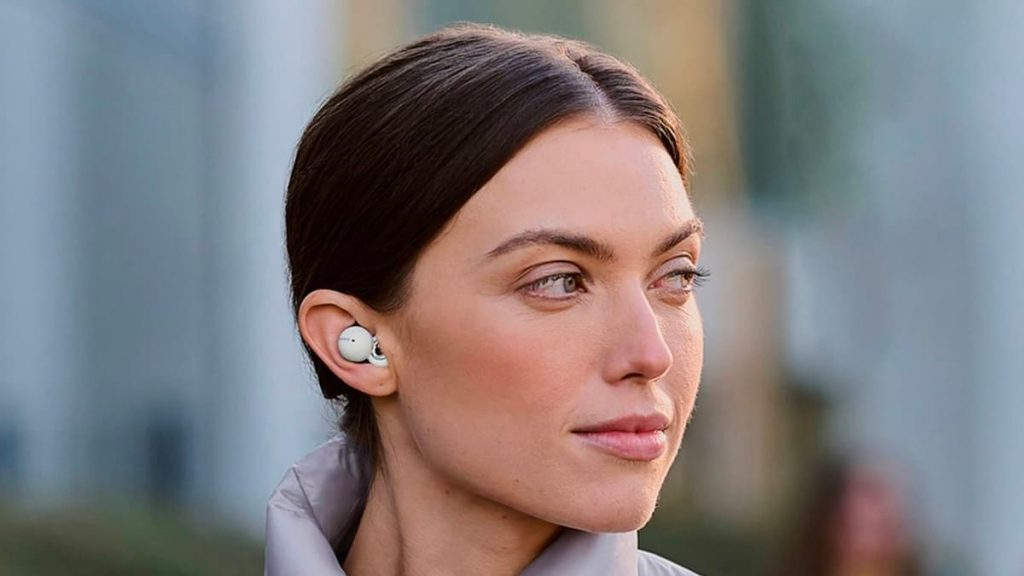earphone: (298, 289, 401, 397)
